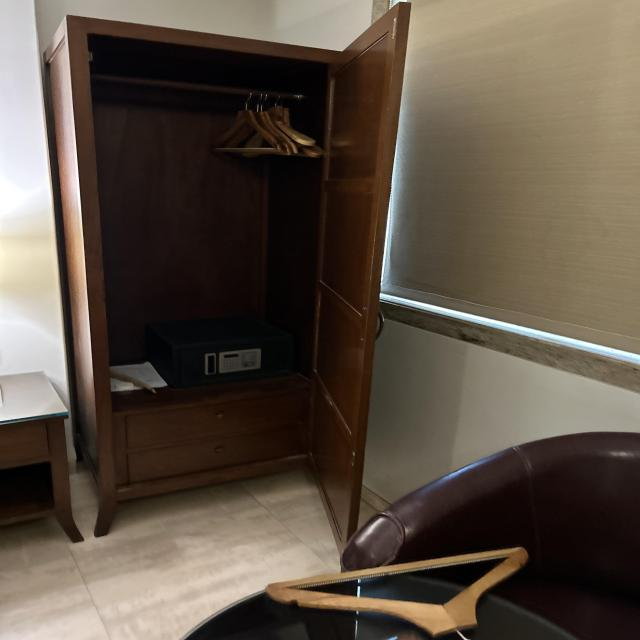mess: (194, 530, 640, 640)
